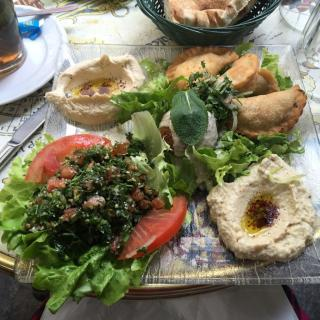tomato: (23, 133, 188, 263)
